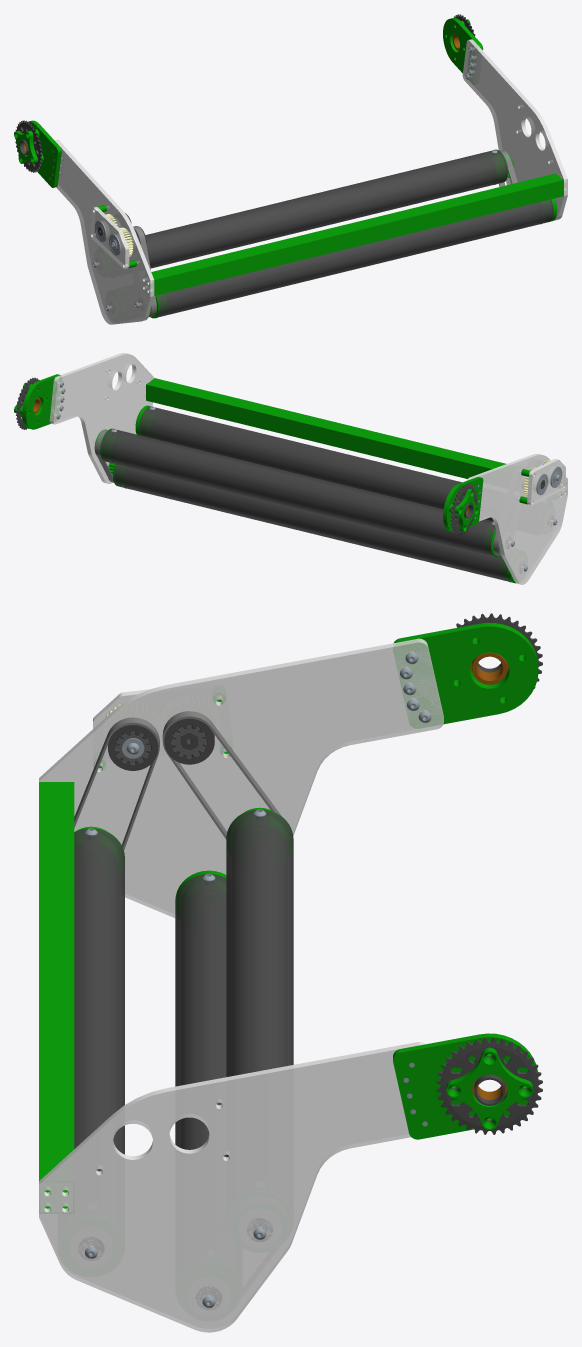
3 renders of one model, top to bottom at view 1: azimuth 30°, elevation 25°; view 2: azimuth 150°, elevation 25°; view 3: azimuth 270°, elevation 25°, orthographic. The views are drawn at different scales.
Parts seen in each view (by area): view 1: Tube (×2), 1*1 tube, Ref Intake Plate, polycarb plate, Axle Plate (×2), Gearbox Plate, 36t Aluminum Plate Sprocket (#25 Chain, SplineXL Bore), Bushing Hat; view 2: Tube (×3), 1*1 tube, Ref Intake Plate, polycarb plate, Axle Plate (×2), Gearbox Plate, 36t Aluminum Plate Sprocket (#25 Chain, SplineXL Bore) (×2), Bushing Hat, Roller Hub; view 3: polycarb plate, Ref Intake Plate, Tube (×3), Axle Plate (×2), 1*1 tube, 36t Aluminum Plate Sprocket (#25 Chain, SplineXL Bore), 60T HTD Belt (×2), Bushing Hat, 22T Custom Pulley (×2).
Boxes of the visible parts, x1=… form: Tube (×2): x1=145, y1=149, x2=553, y2=317; 1*1 tube: x1=151, y1=173, x2=563, y2=295; Ref Intake Plate: x1=55, y1=140, x2=154, y2=324; polycarb plate: x1=462, y1=39, x2=567, y2=220; Axle Plate (×2): x1=27, y1=18, x2=483, y2=187; Gearbox Plate: x1=90, y1=207, x2=129, y2=269; 36t Aluminum Plate Sprocket (#25 Chain, SplineXL Bore): x1=15, y1=120, x2=42, y2=172; Bushing Hat: x1=14, y1=130, x2=37, y2=163; Tube (×3): x1=100, y1=406, x2=510, y2=581; 1*1 tube: x1=146, y1=378, x2=505, y2=478; Ref Intake Plate: x1=467, y1=454, x2=567, y2=584; polycarb plate: x1=49, y1=353, x2=154, y2=483; Axle Plate (×2): x1=22, y1=374, x2=483, y2=532; Gearbox Plate: x1=527, y1=459, x2=565, y2=505; 36t Aluminum Plate Sprocket (#25 Chain, SplineXL Bore) (×2): x1=16, y1=377, x2=477, y2=535; Bushing Hat: x1=454, y1=489, x2=478, y2=531; Roller Hub: x1=135, y1=405, x2=152, y2=437; polycarb plate: x1=39, y1=1042, x2=424, y2=1332; Ref Intake Plate: x1=39, y1=638, x2=443, y2=917; Tube (×3): x1=74, y1=809, x2=293, y2=1171; Axle Plate (×2): x1=393, y1=622, x2=538, y2=1139; 1*1 tube: x1=39, y1=782, x2=74, y2=1212; 36t Aluminum Plate Sprocket (#25 Chain, SplineXL Bore): x1=436, y1=1037, x2=542, y2=1134; 60T HTD Belt (×2): x1=74, y1=711, x2=281, y2=850; Bushing Hat: x1=446, y1=1047, x2=533, y2=1129; 22T Custom Pulley (×2): x1=108, y1=718, x2=214, y2=770.
Size of the model in its own units: 0.737 by 0.242 by 0.3608.
